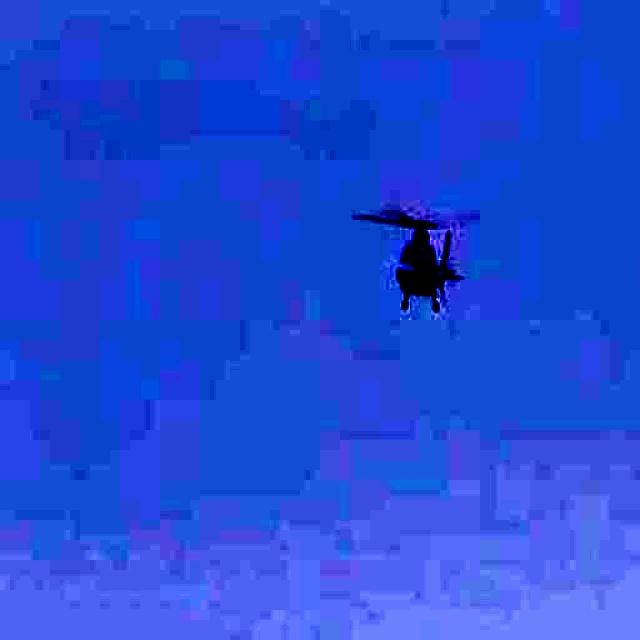drone: (330, 174, 524, 330)
